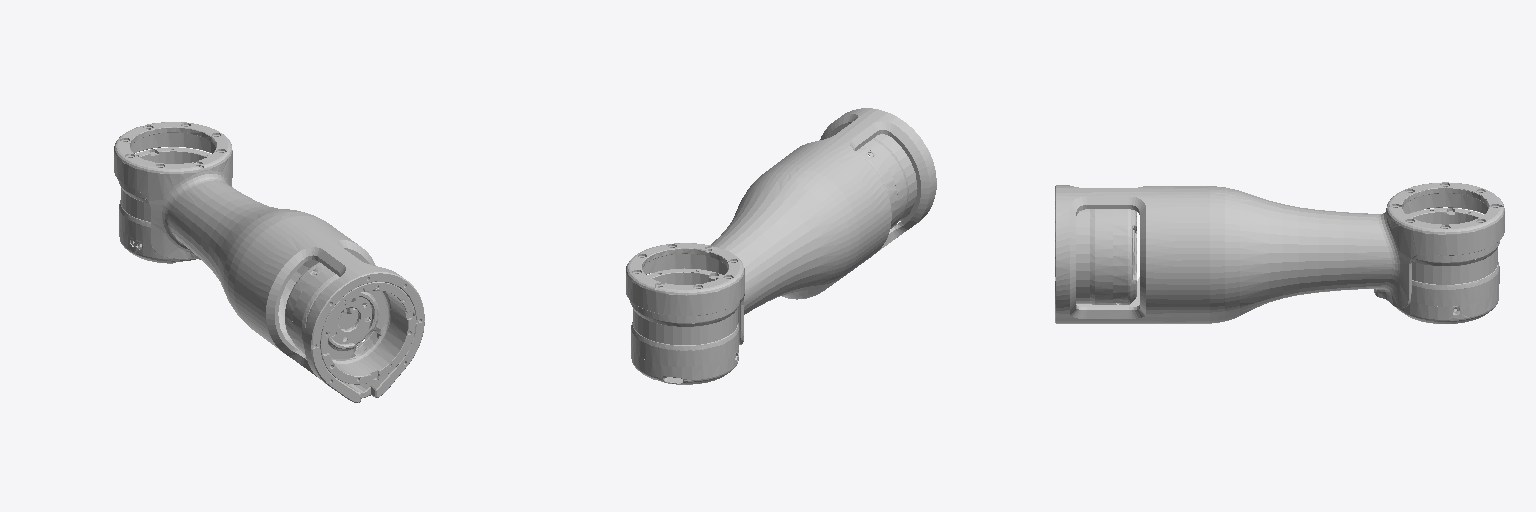
File: left_upper_arm_yaw_link.obj
3 views of the same model, side by side, from view 1: azimuth 30°, elevation 25°; view 2: azimuth 150°, elevation 25°; view 3: azimuth 270°, elevation 25° (orthographic).
Visible parts, largest first — view 1: left_upper_arm_yaw_link; view 2: left_upper_arm_yaw_link; view 3: left_upper_arm_yaw_link.
Boxes of the visible parts, x1=… form: left_upper_arm_yaw_link: x1=114, y1=122, x2=424, y2=402; left_upper_arm_yaw_link: x1=626, y1=108, x2=936, y2=384; left_upper_arm_yaw_link: x1=1055, y1=182, x2=1504, y2=323.
Size of the model in its own units: 0.062 by 0.0669 by 0.212.